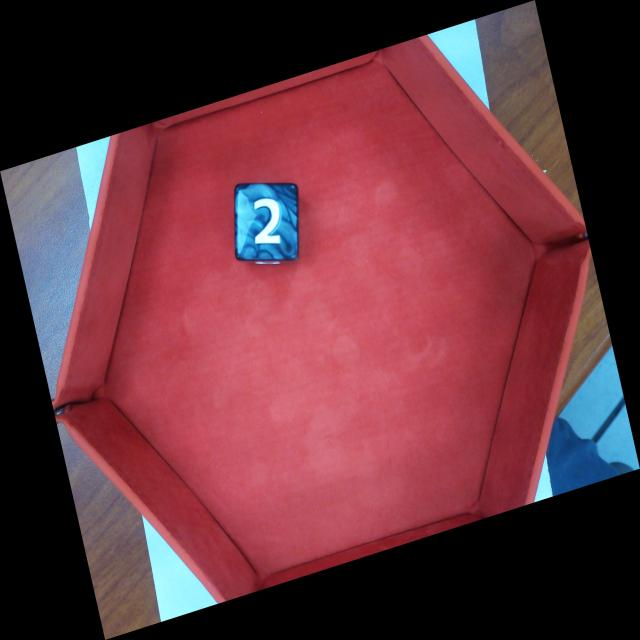dice: (233, 180, 301, 264)
